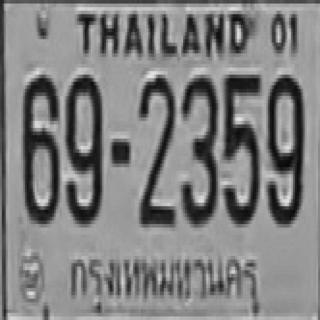N02: (138, 71, 175, 224)
N03: (179, 71, 216, 220)
N05: (222, 71, 260, 224)
N06: (21, 71, 58, 220)
N09: (266, 71, 303, 220), (64, 71, 100, 220)
P04: (65, 247, 262, 312)
